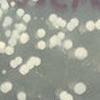white: (72, 81, 89, 97), (73, 45, 89, 61), (18, 30, 31, 46), (84, 18, 96, 33), (29, 55, 43, 67), (3, 45, 16, 57), (34, 39, 47, 51), (1, 79, 14, 91), (35, 27, 47, 39), (18, 64, 30, 76), (64, 22, 76, 33), (6, 37, 18, 48), (50, 34, 61, 46), (63, 38, 73, 51), (55, 90, 68, 100), (49, 19, 60, 30), (69, 16, 80, 27), (15, 7, 25, 18), (21, 13, 31, 24), (15, 21, 24, 33), (15, 91, 27, 100), (3, 15, 13, 25), (9, 59, 19, 69), (47, 13, 58, 22), (0, 84, 9, 95), (0, 40, 6, 56), (48, 38, 56, 50), (0, 2, 10, 11), (11, 30, 20, 40), (56, 31, 65, 40), (25, 61, 34, 70), (1, 20, 9, 30), (14, 56, 24, 64), (94, 17, 100, 30), (55, 16, 63, 25), (4, 29, 12, 38), (9, 0, 17, 8), (60, 19, 67, 28), (65, 93, 74, 100), (36, 93, 44, 100), (31, 15, 38, 22), (1, 69, 8, 76), (39, 15, 45, 22), (22, 24, 28, 31), (0, 7, 3, 19), (13, 22, 18, 29), (0, 0, 8, 4)
